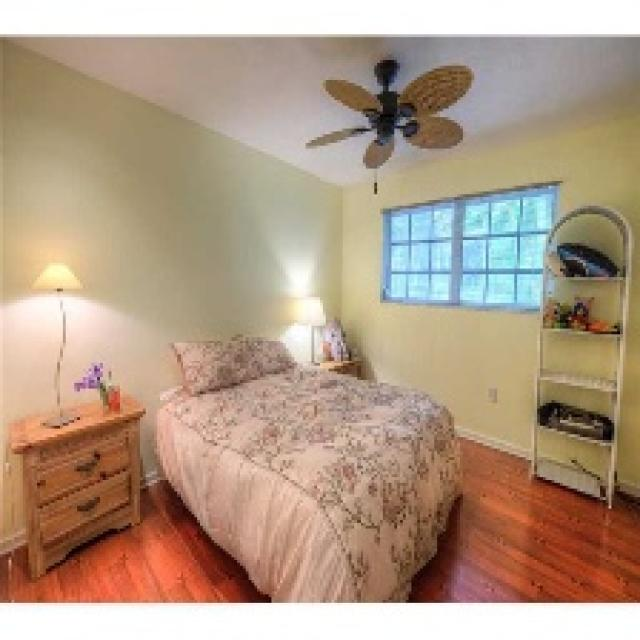Bed: (151, 357, 463, 600)
